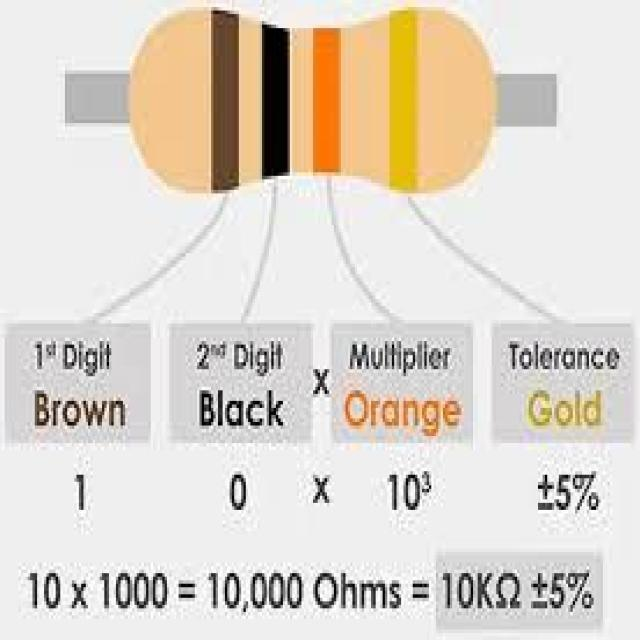Resistor Carbon-Film: (127, 2, 500, 200), (128, 8, 213, 202)
